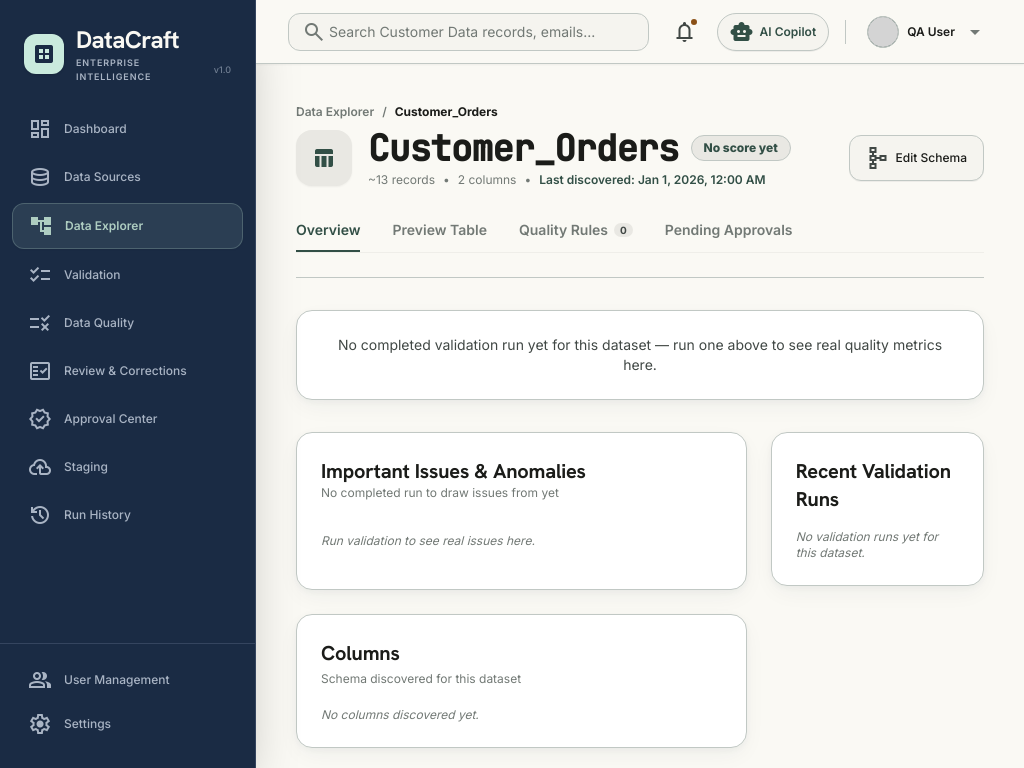
Test: AI rule detection feedback › shows a failure toast when the AI job fails, without claiming success
Step 1. Click the text "Quality Rules" → (564, 230), box x1=519 y1=220 x2=608 y2=240
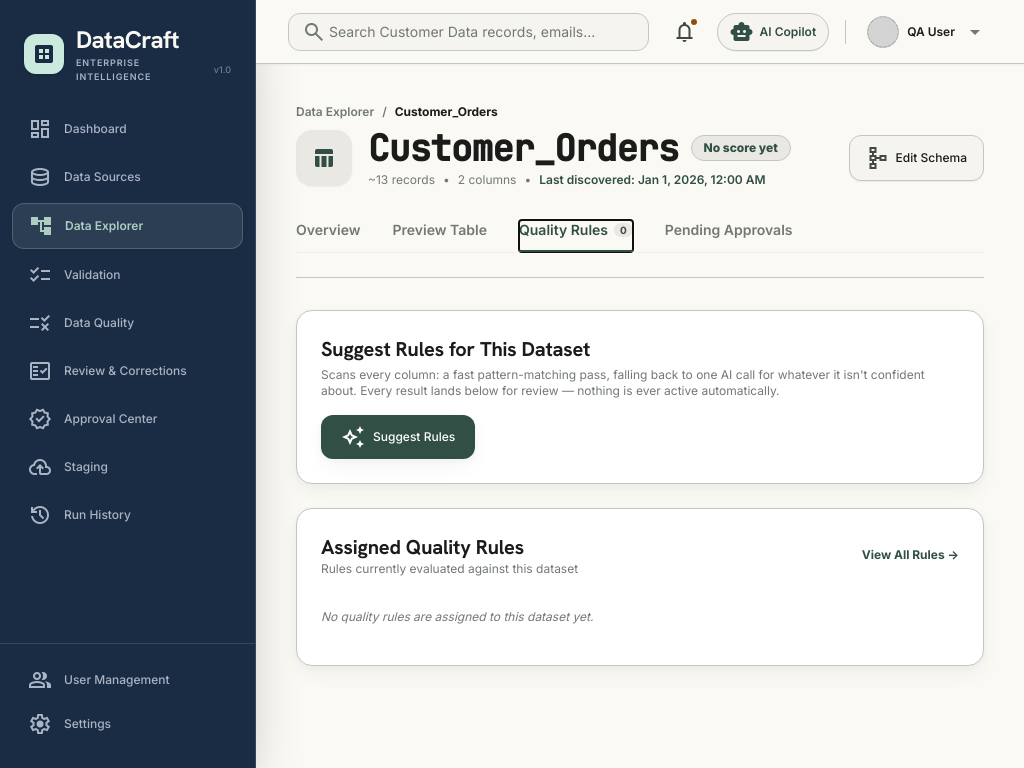
Step 2. Click the button "Suggest Rules" → (398, 437), box x1=321 y1=415 x2=475 y2=459
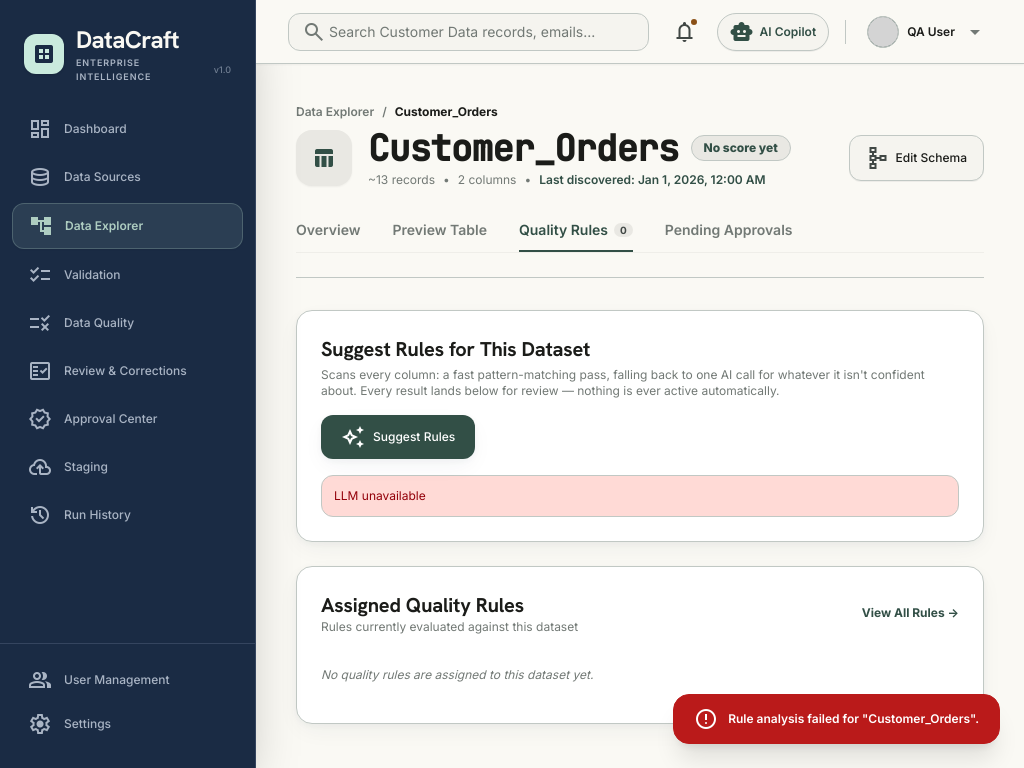
Result: the text "Rule analysis failed for \"Customer_Orders\"." is shown at x1=728 y1=711 x2=979 y2=727
